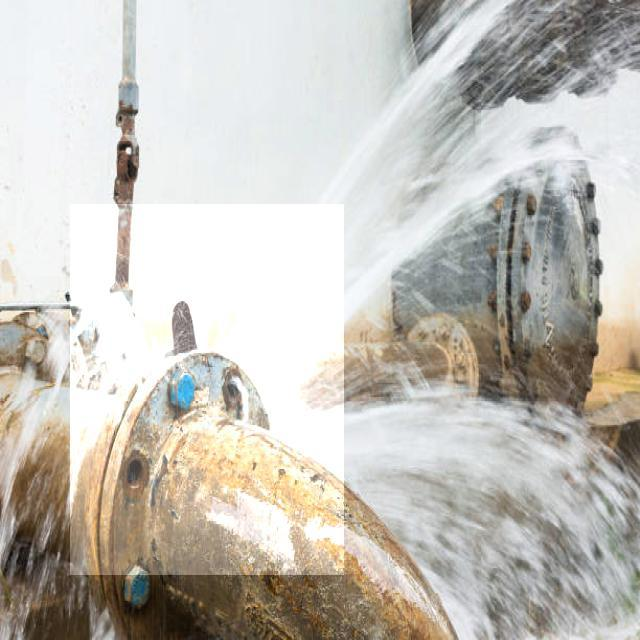corrosion: (93, 260, 385, 543)
